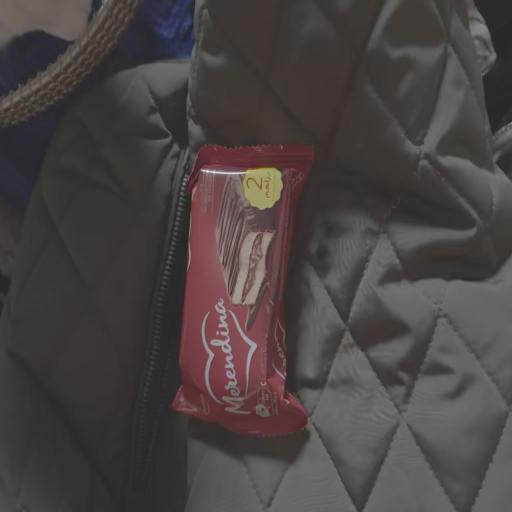merendina: (168, 126, 333, 461)
